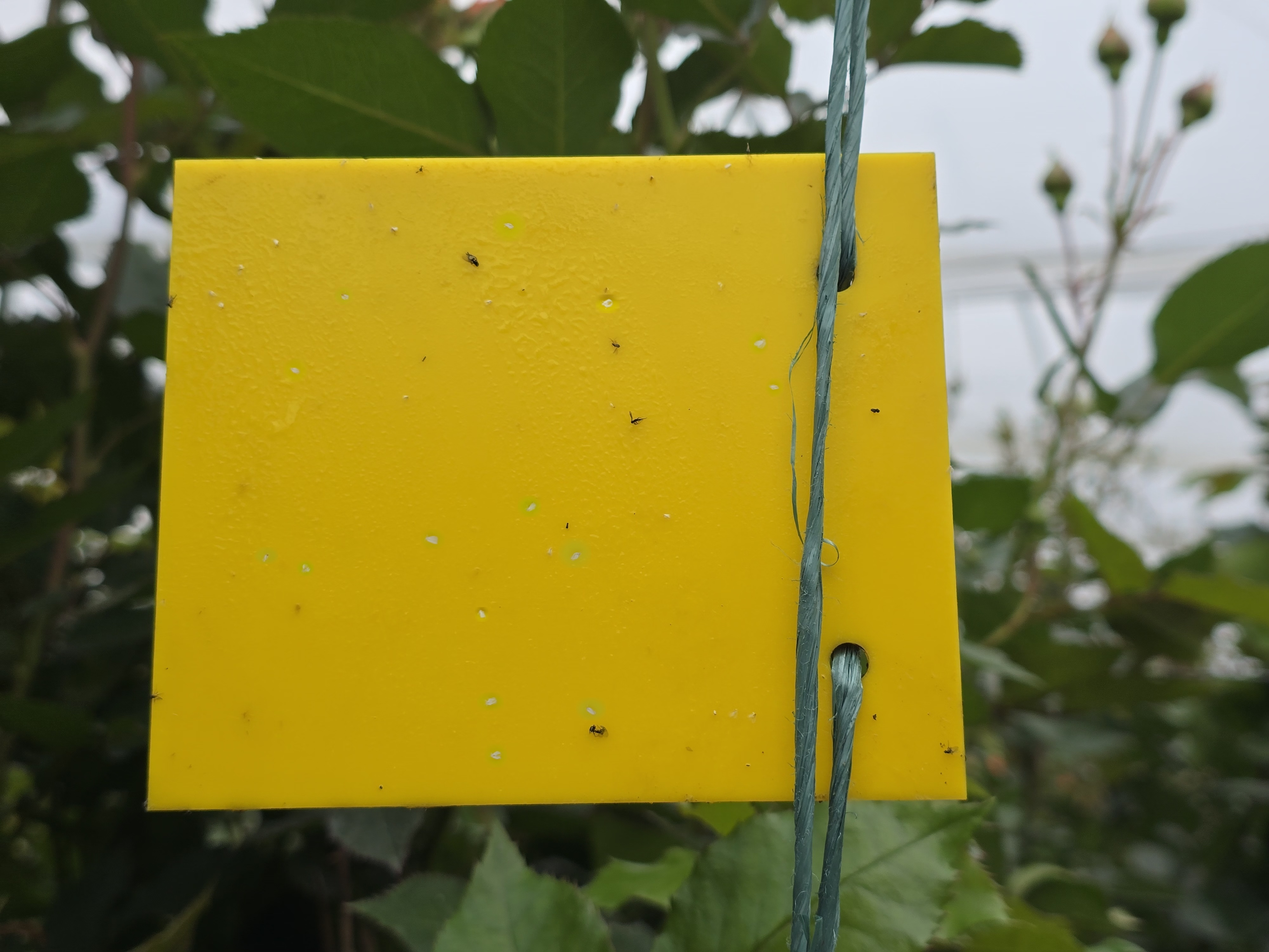WF: (497, 215, 521, 237), (563, 543, 586, 563), (581, 701, 601, 717), (488, 747, 504, 764), (287, 362, 303, 378), (481, 695, 500, 708), (424, 532, 441, 546), (751, 335, 765, 351), (521, 499, 537, 513), (599, 297, 616, 310), (258, 550, 274, 561), (337, 289, 350, 302), (768, 381, 780, 394), (723, 162, 736, 173), (299, 563, 311, 573), (546, 546, 556, 557), (715, 280, 727, 289), (235, 264, 247, 272), (401, 393, 411, 402), (208, 289, 217, 299), (477, 609, 486, 619), (273, 237, 281, 248), (389, 226, 400, 234), (711, 709, 720, 718), (661, 513, 672, 520), (219, 302, 226, 310), (485, 299, 493, 305)
